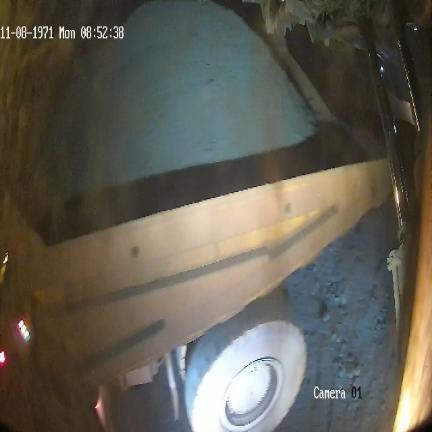pile: (39, 0, 316, 196)
